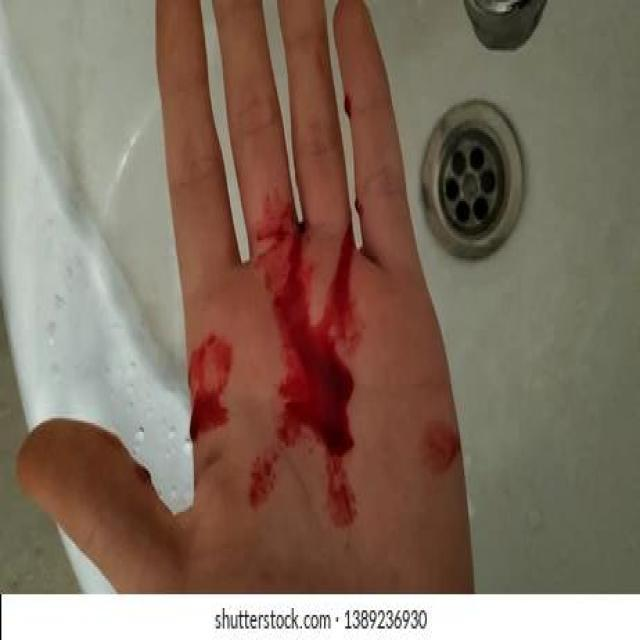flood: (247, 216, 380, 528)
